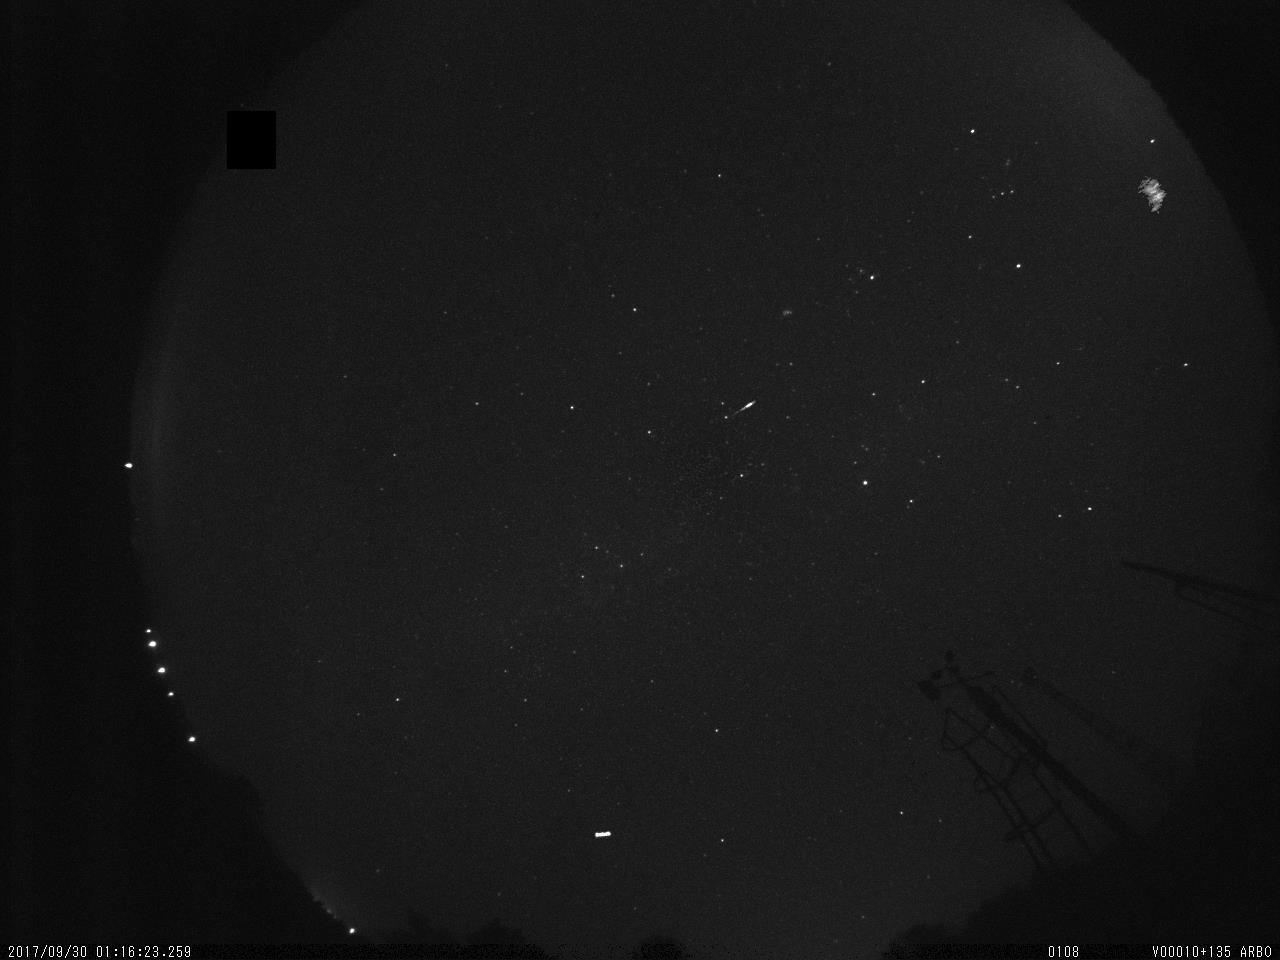TLE: (1120, 160, 1181, 232)
